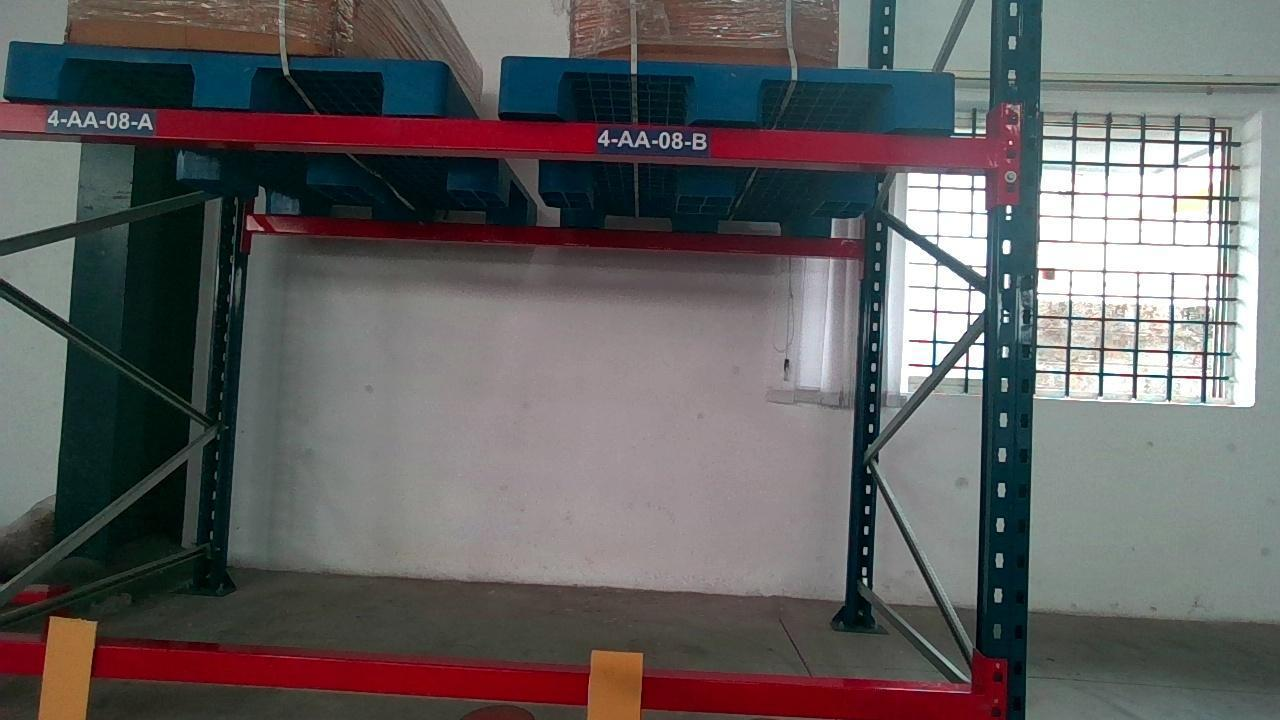h_rack: (3, 636, 973, 720), (0, 103, 1002, 168)
orange_strip: (39, 619, 94, 720), (589, 649, 644, 719)
small_pallet: (498, 55, 960, 125), (7, 46, 442, 108)
